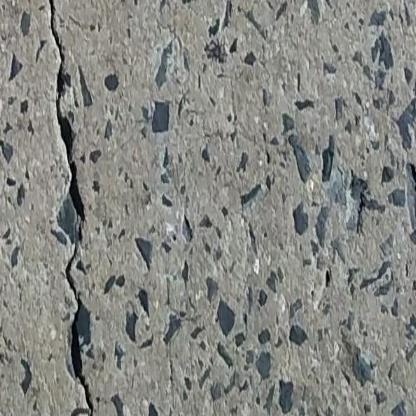Cracks: (45, 0, 90, 227), (62, 244, 98, 416)
